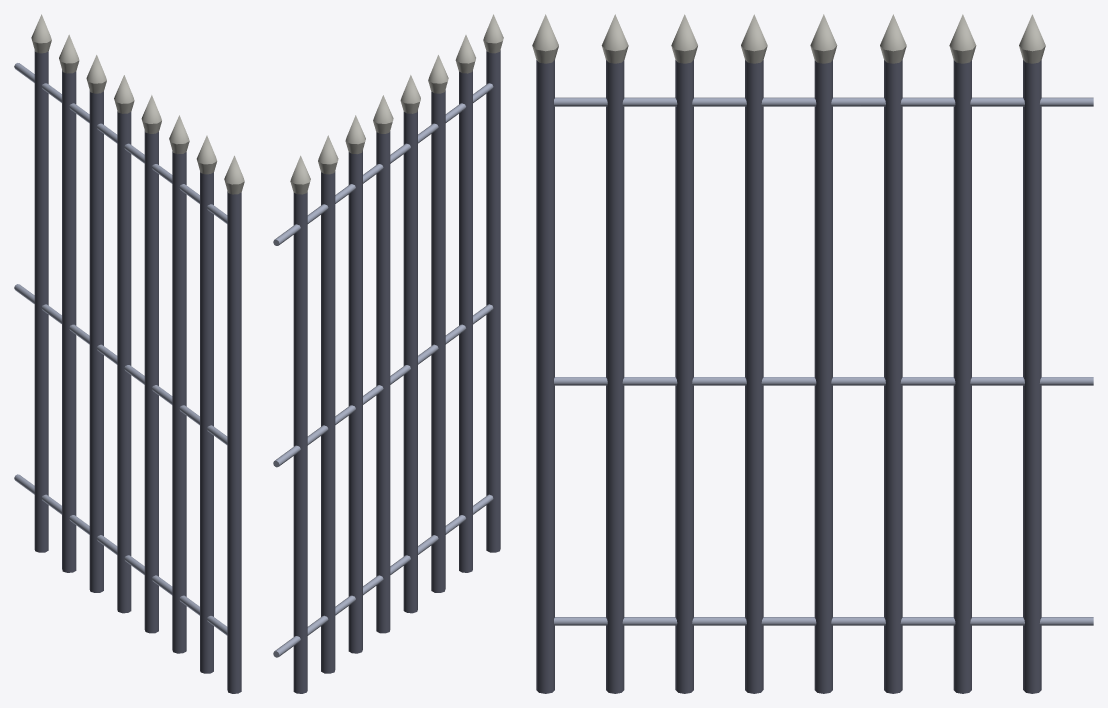
File: Reja Acoplable.fbx
3 renders of one model, left to right at view 1: azimuth 30°, elevation 25°; view 2: azimuth 150°, elevation 25°; view 3: azimuth 270°, elevation 25°, orthographic. The views are drawn at different scales.
Visible parts, largest first — view 1: Cylinder.001; view 2: Cylinder.001; view 3: Cylinder.001.
Boxes of the visible parts, x1=… form: Cylinder.001: x1=14, y1=14, x2=244, y2=693; Cylinder.001: x1=273, y1=14, x2=503, y2=693; Cylinder.001: x1=532, y1=14, x2=1093, y2=693.
Size of the model in its own units: 11.63 by 322 by 242.
